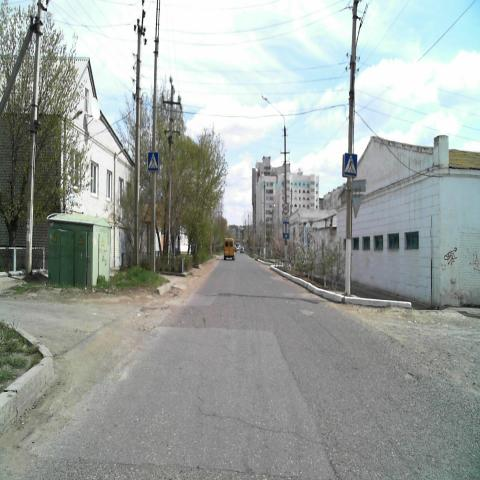7_4: (283, 221, 289, 240)
